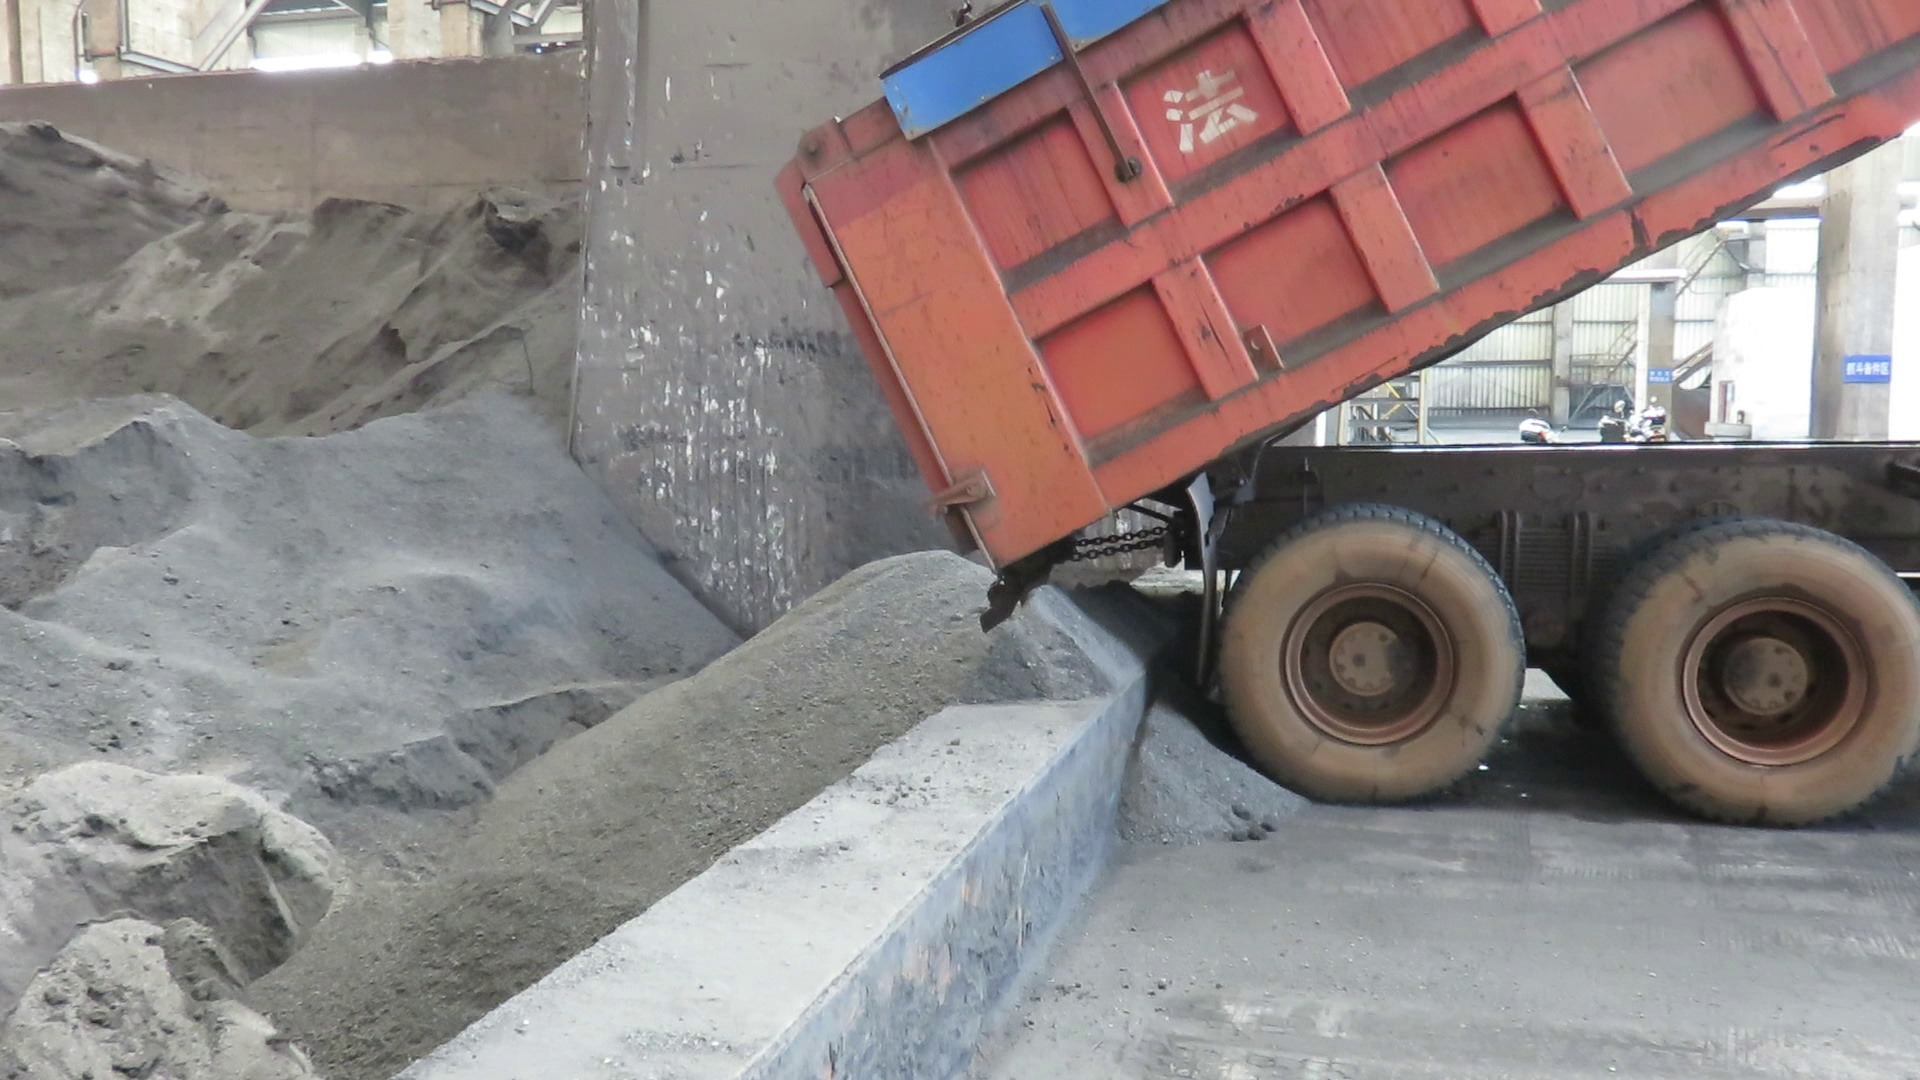truck: (750, 0, 1920, 843)
